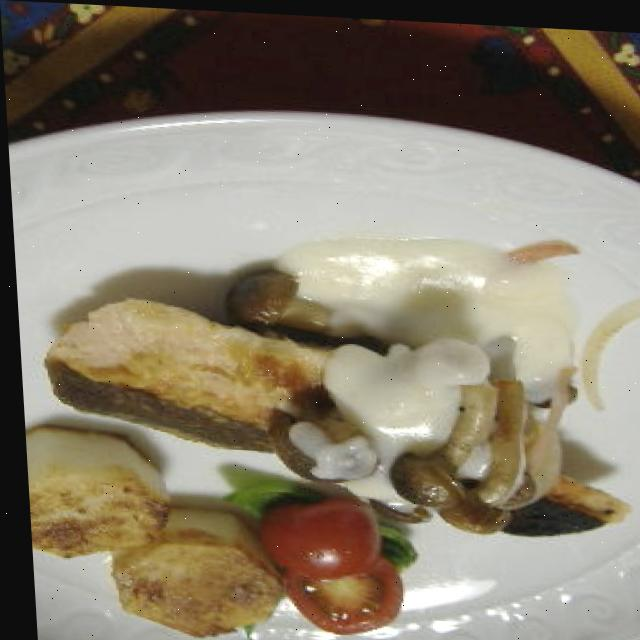熟制海鲜: (40, 269, 640, 557)
